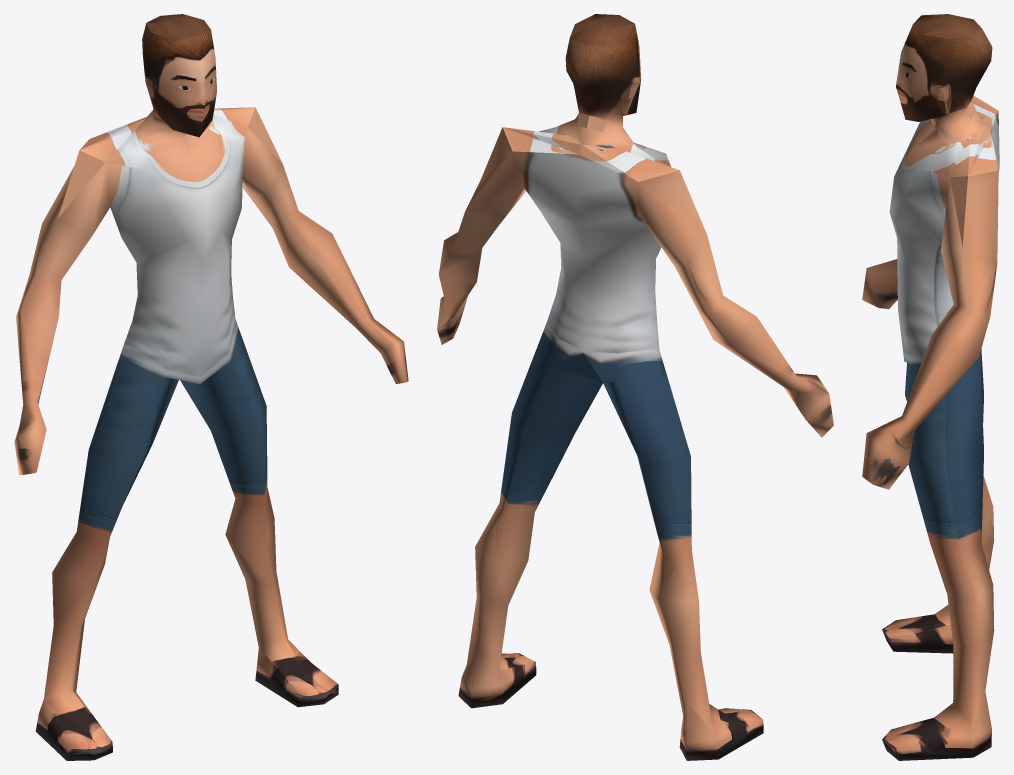
The model's file is proportional_low_poly_man_textured.glb.
3 renders of one model, left to right at view 1: azimuth 30°, elevation 25°; view 2: azimuth 150°, elevation 25°; view 3: azimuth 270°, elevation 25°, orthographic. The views are drawn at different scales.
Size of the model in its own units: 1.17 by 2 by 0.3683.
1 material, 1 textured.
